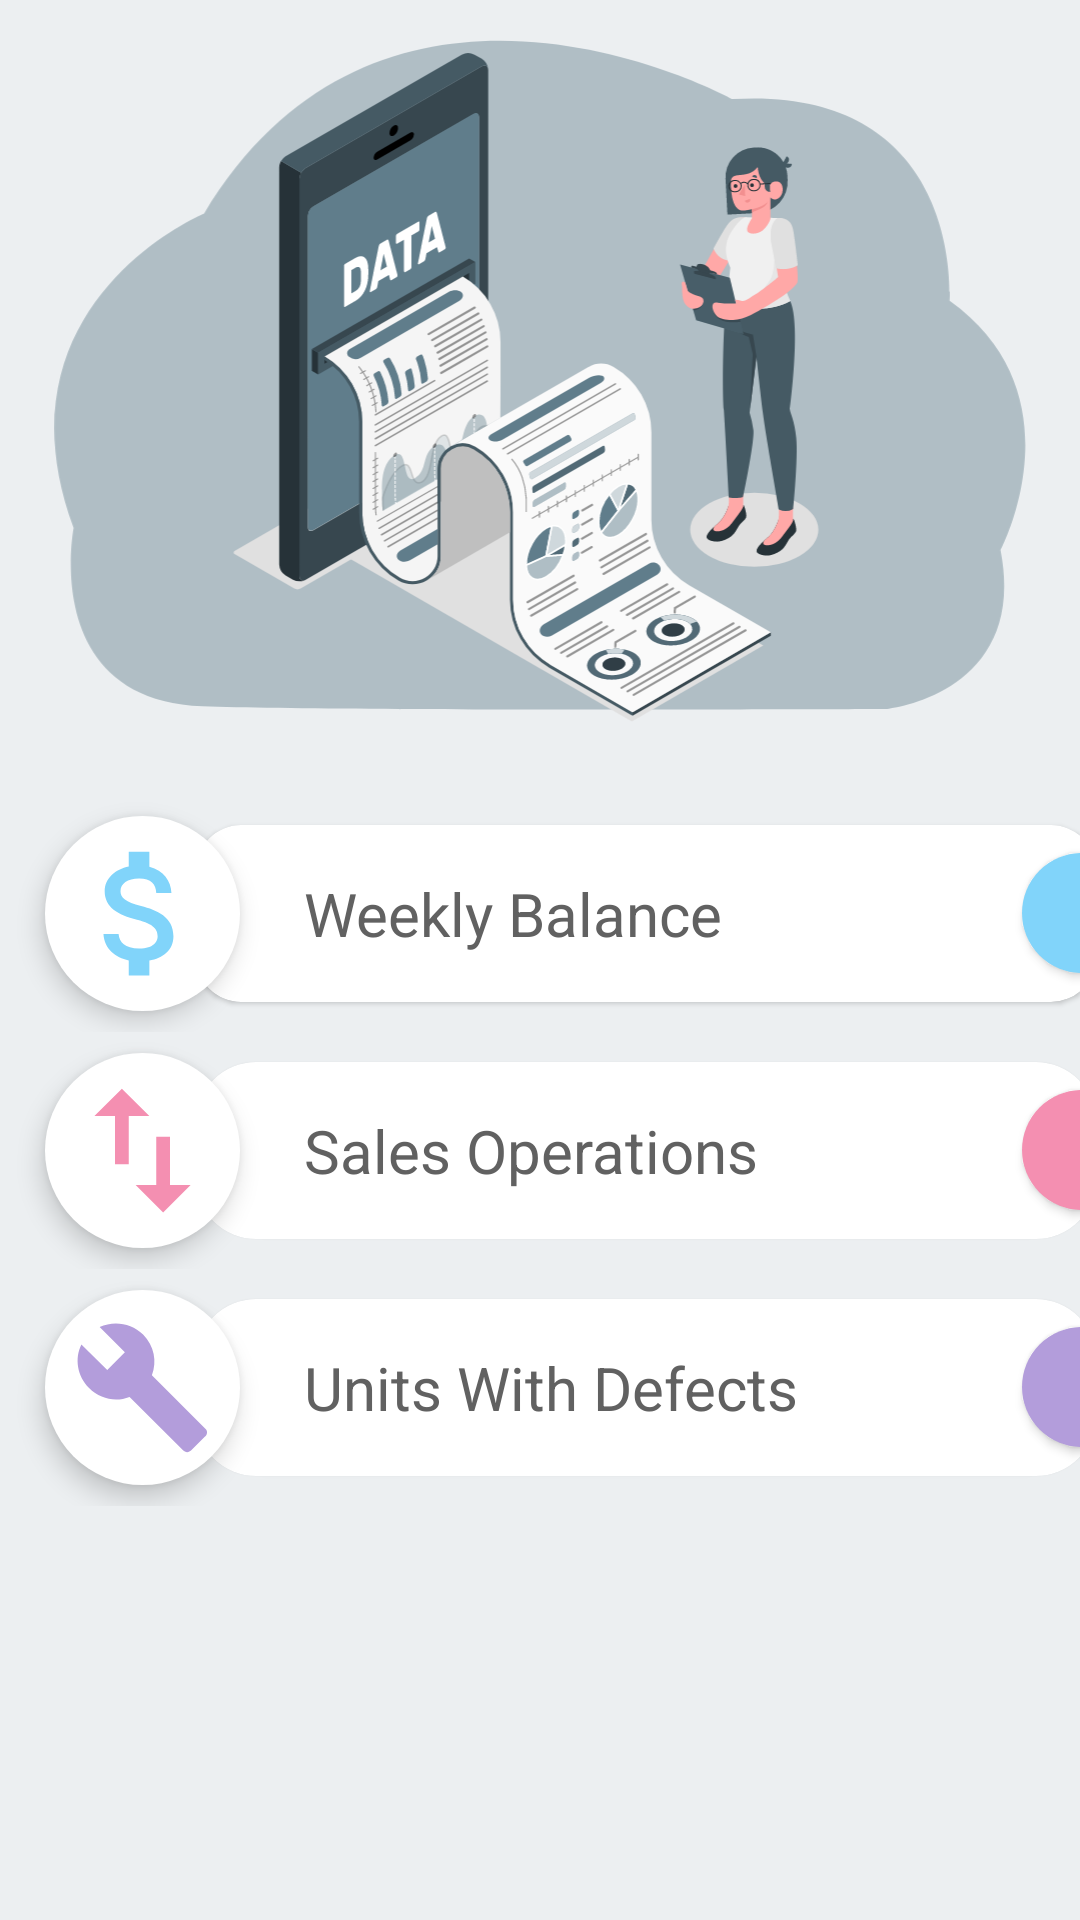

Named icons in this screenshot (1080*1920) and their centers, (x=x, y=y):
build: (x=142, y=1387)
money: (x=142, y=913)
